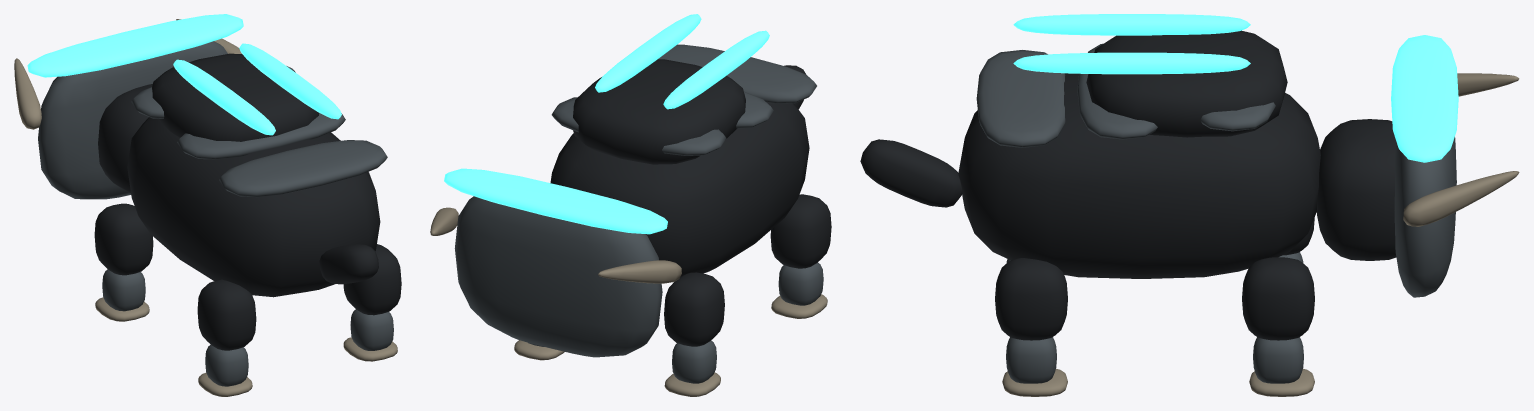
Rendered from ram.glb.
The picture shows the model from 3 angles, left to right: view 1: azimuth 30°, elevation 25°; view 2: azimuth 150°, elevation 25°; view 3: azimuth 270°, elevation 25°; orthographic projection. The views are drawn at different scales.
Visible parts, largest first — view 1: barrel, head_plate, hump, plate_rim, back_plate2, thighBL, thighFL, skull, back_plate1, thighBR, vent2, vent-2 (+9 smaller); view 2: head_plate, barrel, hump, plate_rim, thighFL, back_plate2, thighBL, vent2, vent-2, shinFL, shinBL, back_plate0 (+6 smaller); view 3: barrel, hump, skull, plate_rim, back_plate2, head_plate, thighFR, thighBR, vent2, tail, vent-2, horn1 (+7 smaller).
Boxes of the visible parts, bbox=[...] form: barrel: bbox=[127, 117, 380, 297]; head_plate: bbox=[38, 41, 227, 199]; hump: bbox=[152, 53, 318, 141]; plate_rim: bbox=[27, 14, 243, 77]; back_plate2: bbox=[219, 140, 387, 197]; thighBL: bbox=[197, 279, 256, 350]; thighFL: bbox=[94, 203, 153, 275]; skull: bbox=[98, 84, 152, 193]; back_plate1: bbox=[177, 113, 345, 159]; thighBR: bbox=[343, 244, 401, 315]; vent2: bbox=[239, 43, 341, 119]; vent-2: bbox=[173, 59, 275, 135]; head_plate: bbox=[454, 196, 662, 357]; barrel: bbox=[550, 102, 809, 276]; hump: bbox=[573, 59, 745, 164]; plate_rim: bbox=[444, 168, 667, 234]; thighFL: bbox=[664, 272, 724, 346]; back_plate2: bbox=[658, 44, 816, 103]; thighBL: bbox=[770, 194, 831, 268]; vent2: bbox=[595, 14, 701, 92]; vent-2: bbox=[663, 30, 769, 109]; shinFL: bbox=[672, 340, 716, 383]; shinBL: bbox=[778, 262, 823, 305]; back_plate0: bbox=[551, 97, 726, 155]; barrel: bbox=[958, 73, 1320, 278]; hump: bbox=[1086, 30, 1287, 137]; skull: bbox=[1316, 119, 1396, 260]; plate_rim: bbox=[1391, 35, 1458, 162]; back_plate2: bbox=[976, 50, 1065, 147]; head_plate: bbox=[1394, 137, 1456, 297]; thighFR: bbox=[1242, 257, 1314, 340]; thighBR: bbox=[995, 258, 1067, 340]; vent2: bbox=[1013, 52, 1250, 74]; tail: bbox=[860, 139, 962, 207]; vent-2: bbox=[1013, 14, 1250, 35]; horn1: bbox=[1403, 171, 1519, 226].
Size of the model in its own units: 1.74 by 1.87 by 3.6.
